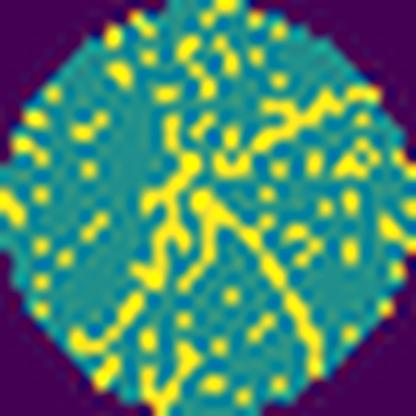Scratch: (175, 187, 329, 385), (212, 85, 379, 183), (122, 111, 204, 297), (68, 288, 151, 356), (139, 338, 206, 415)
